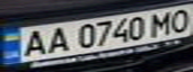0: (72, 20, 96, 50), (127, 14, 151, 40)
4: (112, 16, 133, 44)
7: (93, 18, 115, 47)
A: (15, 27, 51, 58), (42, 25, 72, 55)
M: (145, 9, 178, 37)
O: (163, 6, 193, 33)
